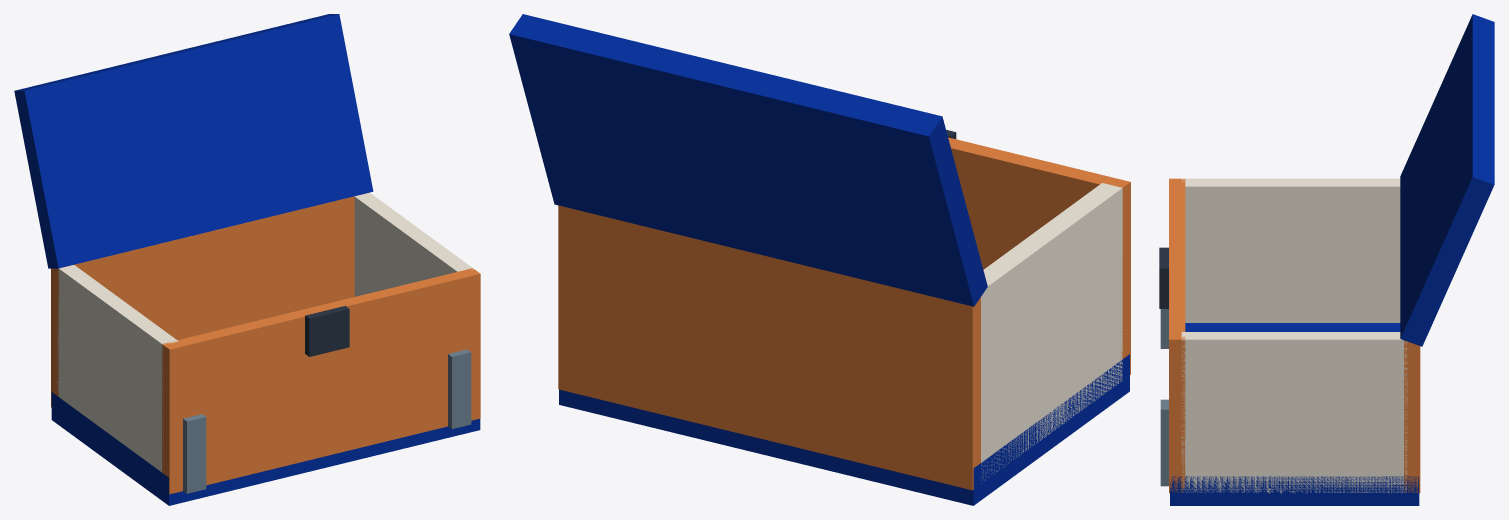
The picture shows the model from 3 angles, left to right: view 1: azimuth 30°, elevation 25°; view 2: azimuth 150°, elevation 25°; view 3: azimuth 270°, elevation 25°; orthographic projection. The views are drawn at different scales.
Parts seen in each view (by area): view 1: raised lid, panel 0.5, panel -0.5, end panel -0.77, floor, end panel 0.77, clasp, corner 0.69, corner -0.69; view 2: raised lid, panel -0.5, end panel -0.77, floor, panel 0.5; view 3: end panel 0.77, end panel -0.77, raised lid, floor, panel 0.5, panel -0.5, corner 0.69, clasp.
Boxes of the visible parts, x1,y1,x2,y2 form: raised lid: (14,14,373,268); panel 0.5: (162,268,480,494); panel -0.5: (51,195,356,407); end panel -0.77: (57,265,178,472); floor: (51,392,480,505); end panel 0.77: (354,192,473,296); clasp: (305,306,349,356); corner 0.69: (448,349,471,428); corner -0.69: (183,414,206,493); raised lid: (509,14,987,306); panel -0.5: (558,205,980,490); end panel -0.77: (981,183,1122,483); floor: (559,354,1129,505); panel 0.5: (948,137,1130,377); end panel 0.77: (1181,332,1407,493); end panel -0.77: (1181,178,1400,322); raised lid: (1400,14,1494,346); floor: (1170,323,1419,505); panel 0.5: (1169,178,1185,493); panel -0.5: (1404,340,1420,493); corner 0.69: (1160,399,1168,486); clasp: (1159,247,1168,308).
Bounding box in the file's own units: 1.64 × 1.55 × 1.42.
